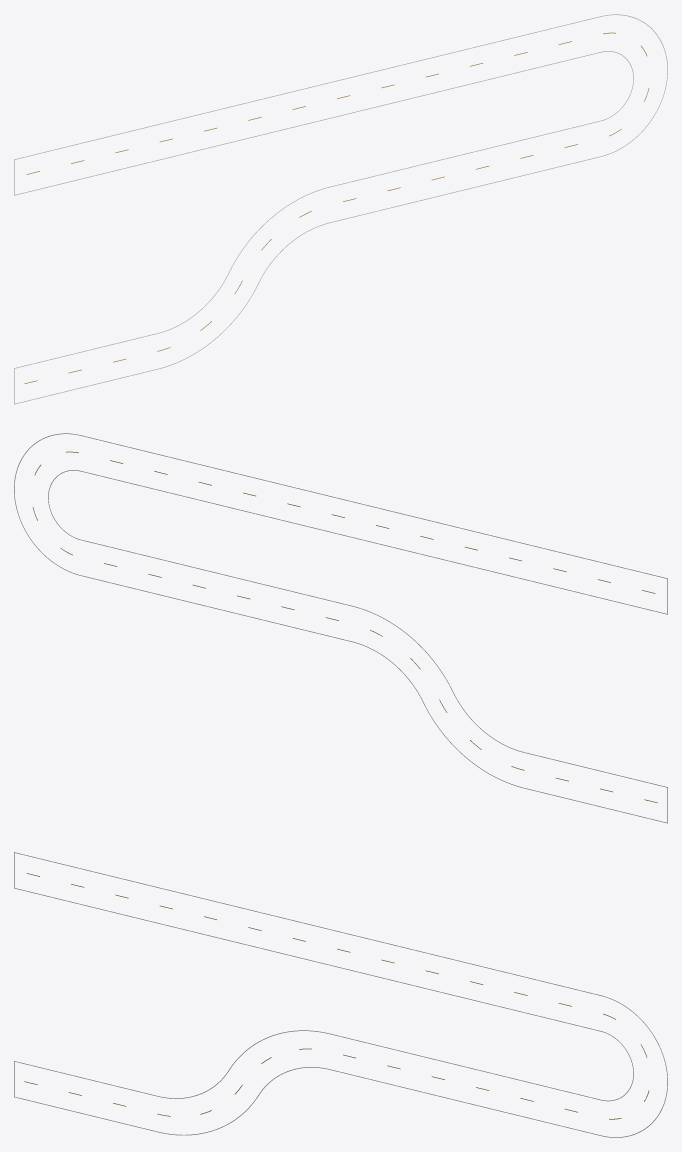
Rendered from road_markings.obj.
3 views of the same model, one above another, from view 1: azimuth 30°, elevation 25°; view 2: azimuth 150°, elevation 25°; view 3: azimuth 330°, elevation 25° (orthographic).
Visible parts, largest first — view 1: road_markings; view 2: road_markings; view 3: road_markings.
Boxes of the visible parts, box(x1,y1,x2,y2) form: road_markings: box(14, 14, 667, 404); road_markings: box(14, 433, 667, 823); road_markings: box(14, 852, 667, 1137).
Size of the model in its own units: 118 by 42.26 by 0.001.
